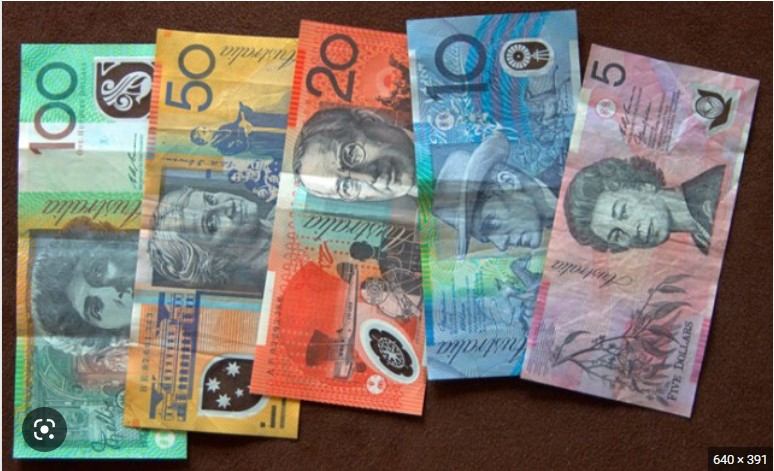cash: (520, 43, 760, 417), (123, 29, 300, 440), (250, 19, 425, 415), (406, 10, 580, 379), (13, 42, 163, 459)
